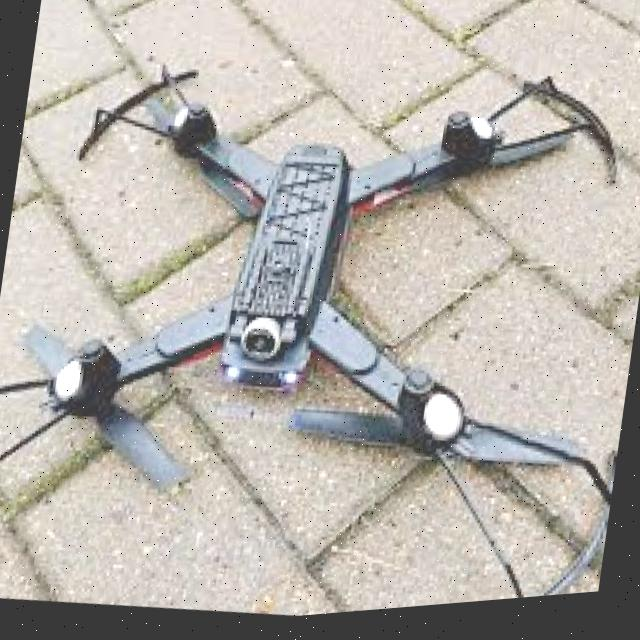drone: (0, 22, 640, 624)
